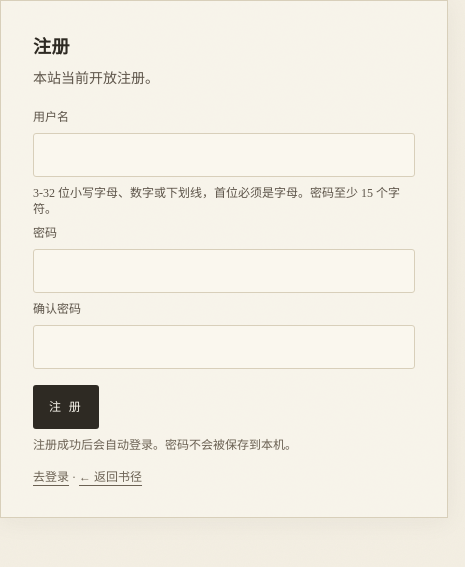
Test: 注册提交的离页守卫 › 不离页的失败提交保留用户名、清空密码且不跳转（行为保留）
In the field named "username": (224, 155) [33,133,415,177], type "synthetic_reader"
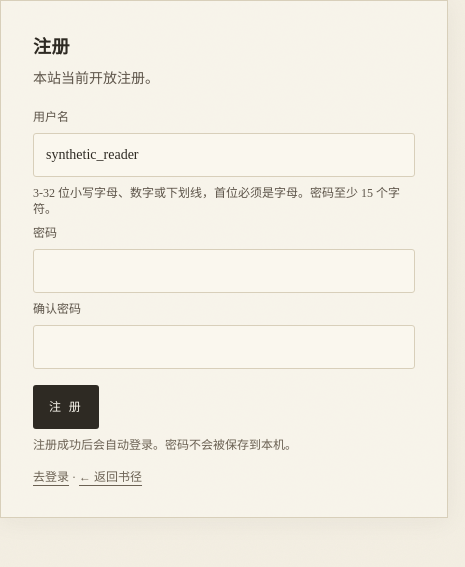
In the password field named "new-password": (224, 271) [33,249,415,293], type "synthetic-password-123"
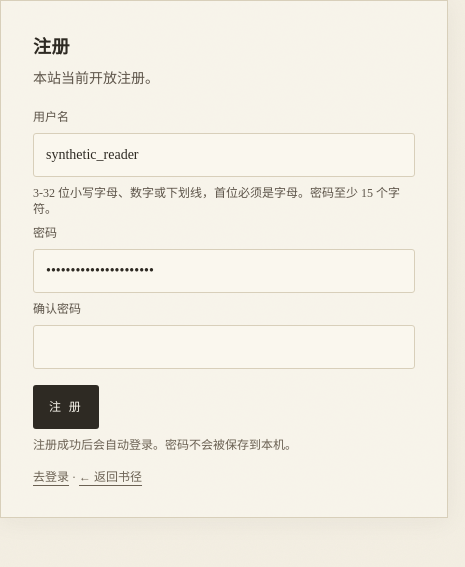
In the password field labelled "确认密码": (224, 347) [33,325,415,369], type "synthetic-password-123"
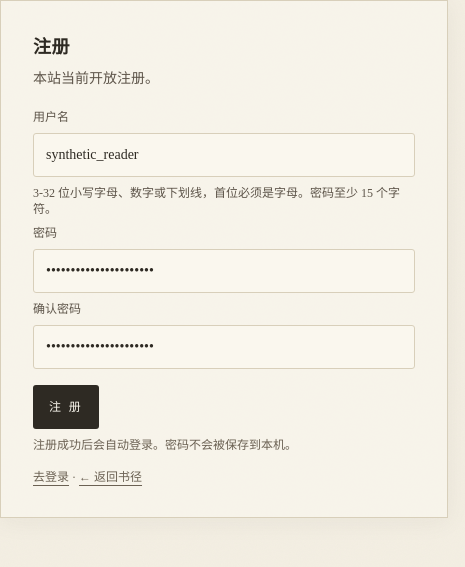
Submit the form "注册", box [33,109,415,453]
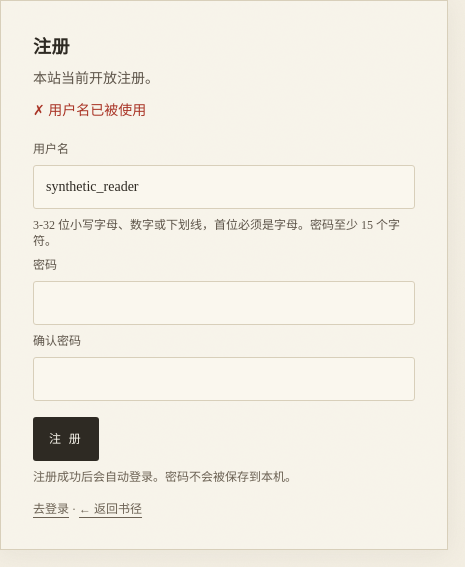
Expected: the message "✗ 用户名已被使用" is shown, [33,103,146,118]
Expected: the password field named "new-password" is empty, [33,281,415,325]
